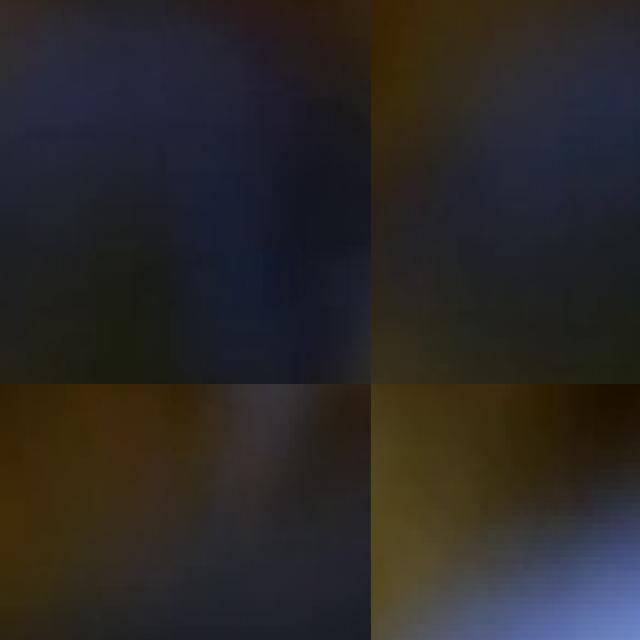fish: (0, 0, 371, 384), (371, 415, 640, 640)
